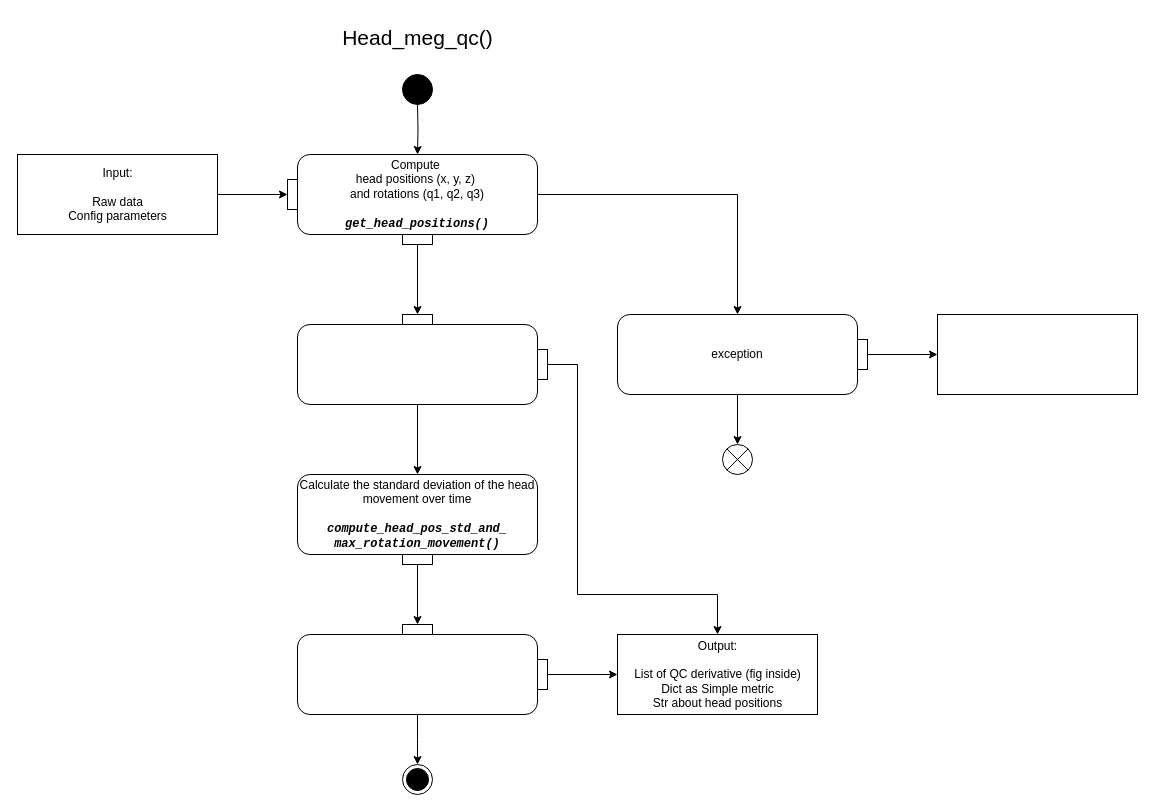
Image size: 1155x812. Some labels were removed from this diagram. The shapes that lost their labels are listed below. From the top down, each one's centre as x and y in pixels, then its label:
(417,364): Plot head positions and rotations make_head_pos_plot()
(1037,354): Output: Empty list Empty dict as Simple metric Str about no head positions
(417,674): Save std of head positions and rotations in dictionary make_simple_metric_head()
